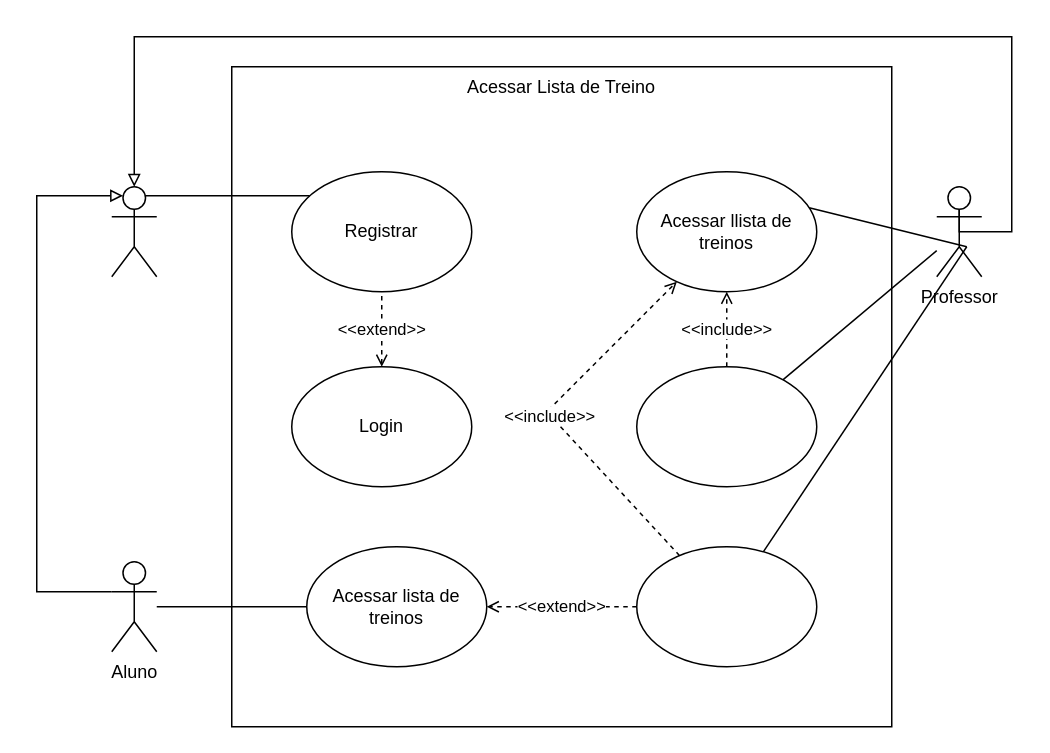
The diagram is 1050 pixels wide and 753 high, and some of its shapes have lost their labels. Each missing label, with the box of its shape:
Adicionar treino na lista: (635, 365, 817, 487)
User: (110, 185, 157, 277)
Vincular treino a um aluno: (635, 545, 817, 667)
